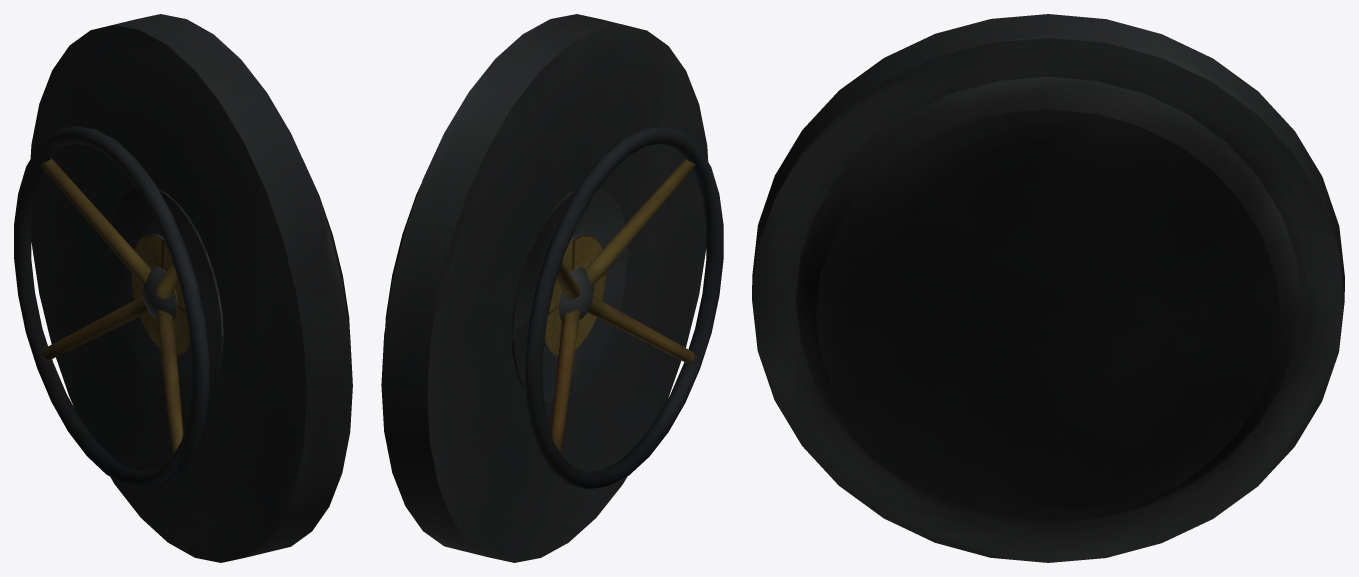
Rendered from furnace door v2.1.fbx.
3 renders of one model, left to right at view 1: azimuth 30°, elevation 25°; view 2: azimuth 150°, elevation 25°; view 3: azimuth 270°, elevation 25°, orthographic. The views are drawn at different scales.
Visible parts, largest first — view 1: Furnance Door.001; view 2: Furnance Door.001; view 3: Furnance Door.001.
Part boxes in pixels (<box>): Furnance Door.001: <box>14,14,352,562</box>; Furnance Door.001: <box>381,14,723,562</box>; Furnance Door.001: <box>752,14,1344,562</box>.
Bounding box in the file's own units: 18.82 × 64.12 × 65.6.
